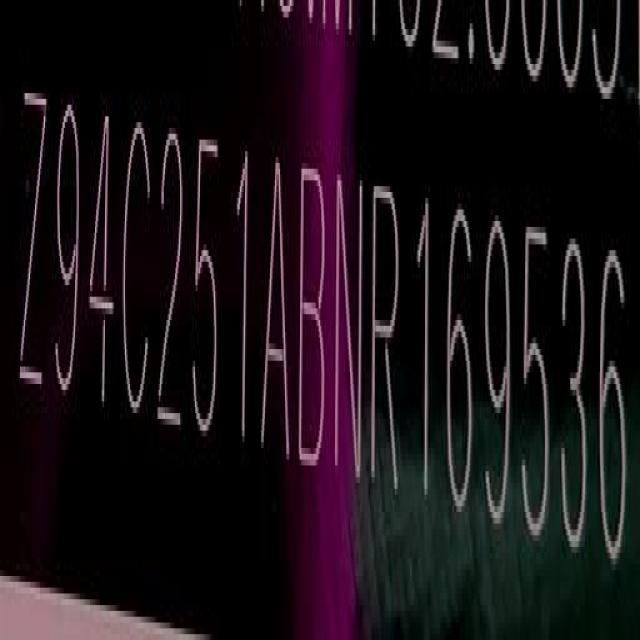1: (415, 193, 435, 512), (236, 135, 250, 458)
2: (158, 112, 188, 442)
3: (559, 231, 591, 567)
4: (89, 100, 117, 415)
5: (522, 216, 552, 548), (195, 120, 222, 450)
6: (599, 238, 631, 573), (446, 205, 478, 522)
9: (483, 212, 514, 536), (50, 92, 80, 408)
A: (262, 152, 293, 470)
B: (298, 153, 329, 474)
C: (122, 112, 156, 430)
N: (334, 162, 361, 487)
R: (374, 177, 404, 501)
Z: (19, 80, 45, 405)
